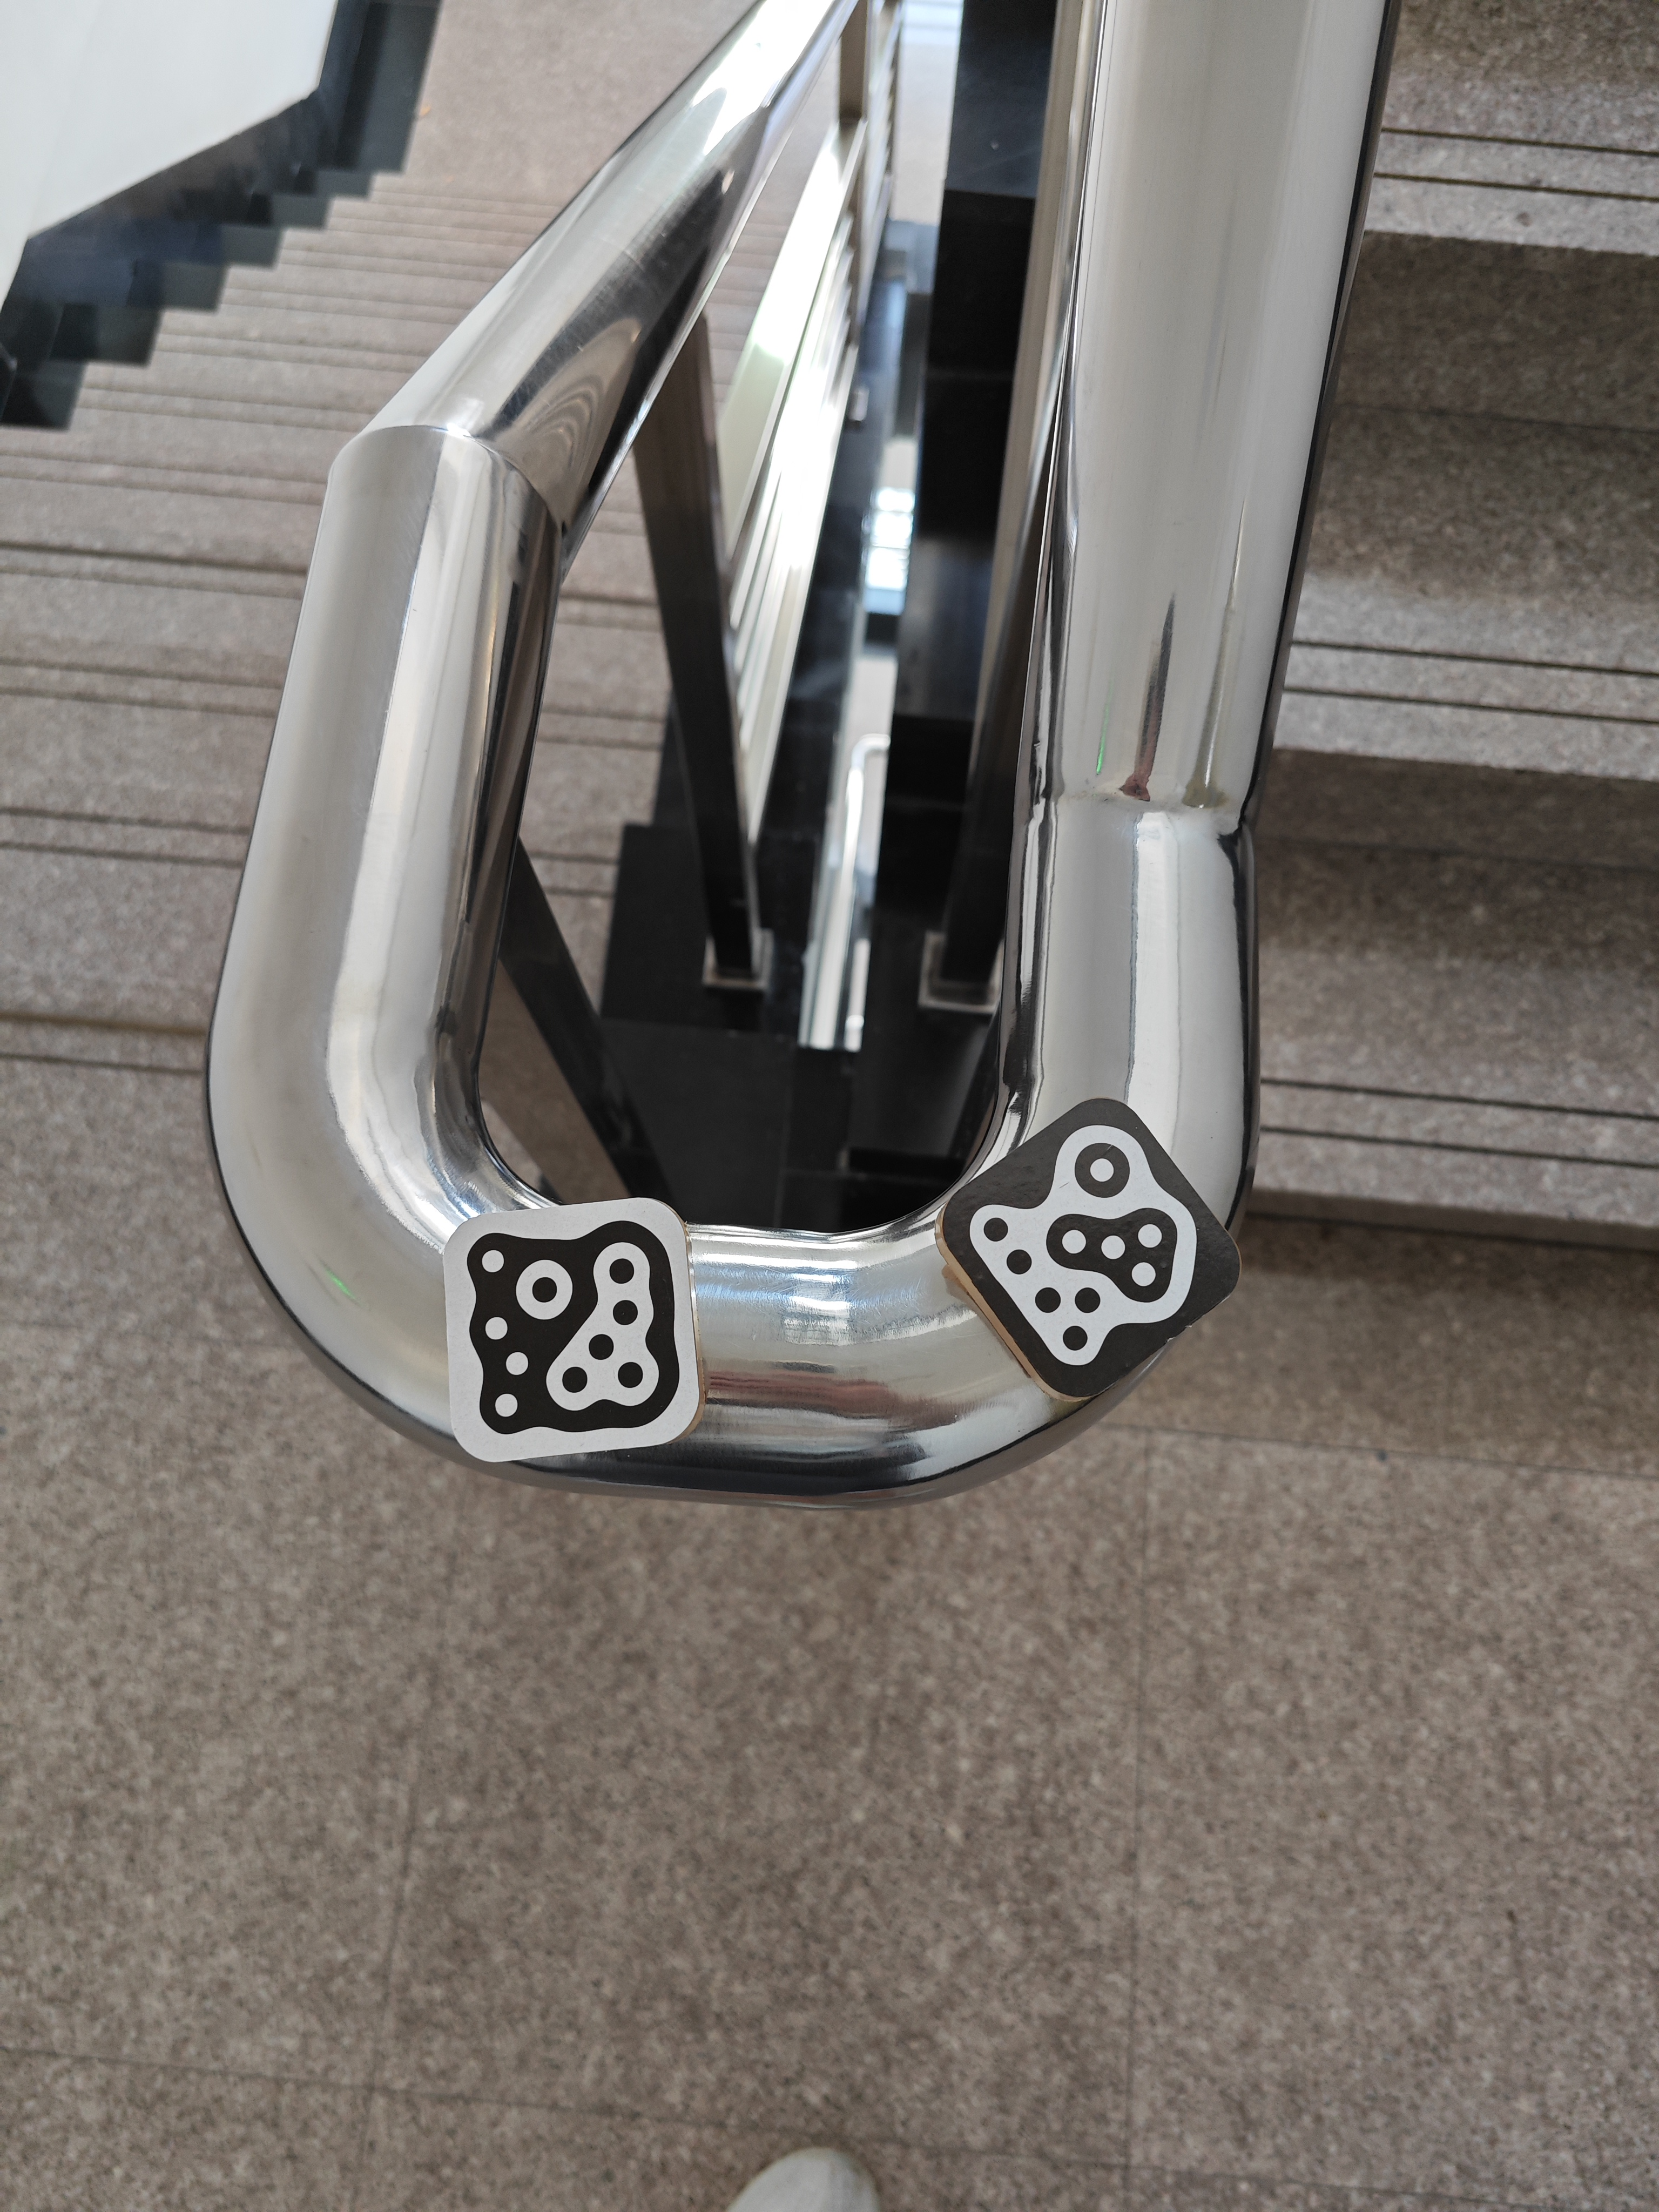mark1: (465, 1217, 683, 1432)
mark2: (964, 1118, 1204, 1371)
